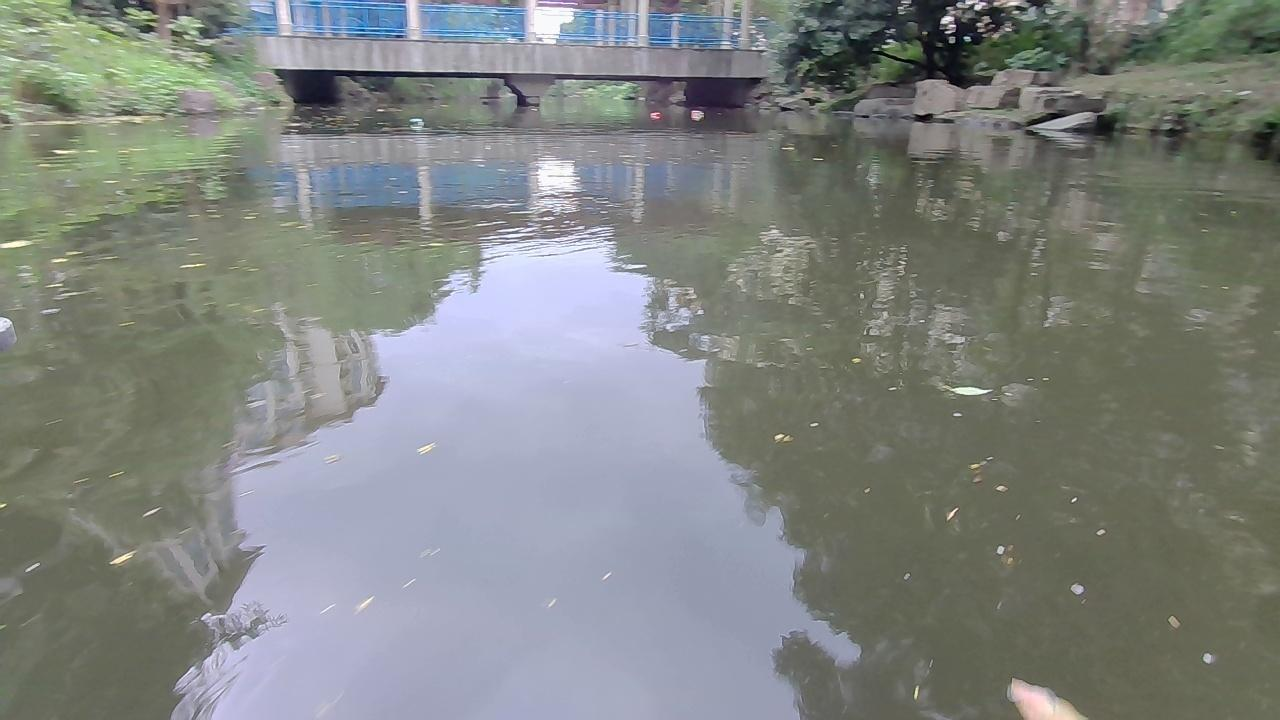bottle: (406, 114, 423, 125), (645, 108, 659, 118), (689, 109, 701, 118)
